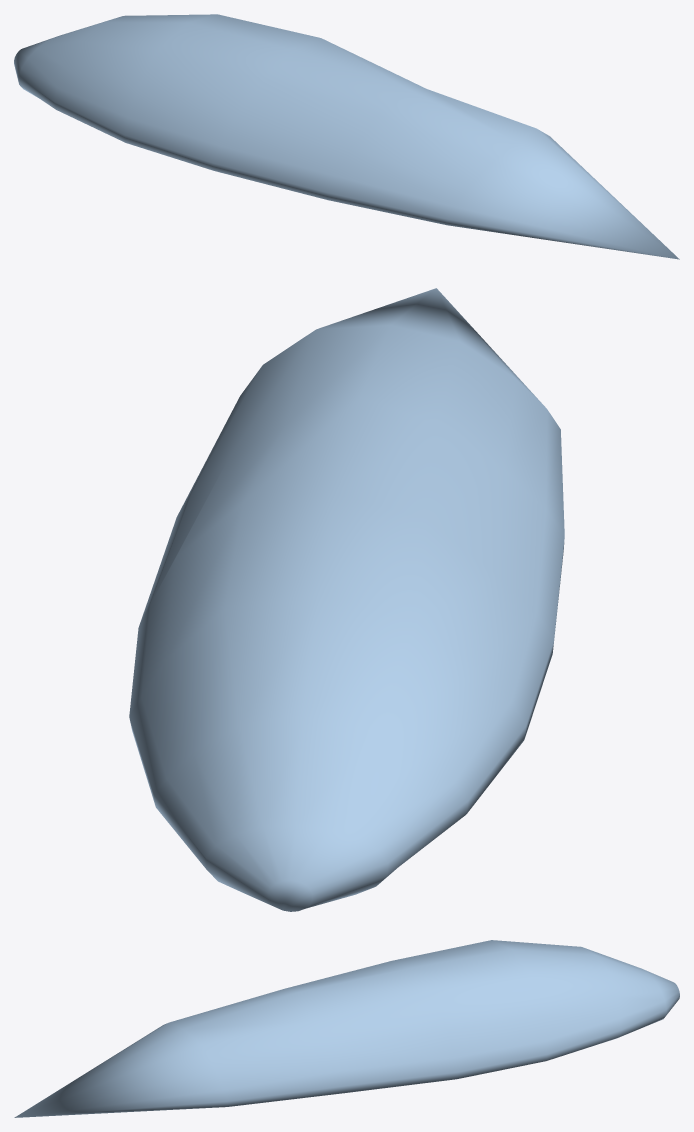
File: Item_Dragon.fbx
3 renders of one model, top to bottom at view 1: azimuth 30°, elevation 25°; view 2: azimuth 150°, elevation 25°; view 3: azimuth 270°, elevation 25°, orthographic. The views are drawn at different scales.
Parts seen in each view (by area): view 1: Cylinder.035; view 2: Cylinder.035; view 3: Cylinder.035.
Part boxes in pixels (x1=…): Cylinder.035: x1=14, y1=14, x2=679, y2=259; Cylinder.035: x1=129, y1=288, x2=564, y2=911; Cylinder.035: x1=14, y1=940, x2=679, y2=1117.
Bounding box in the file's own units: 143 × 43.94 × 288.
